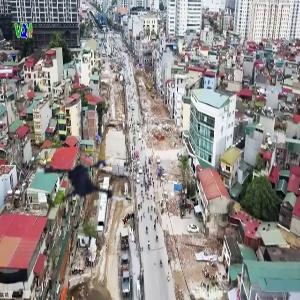drone: (37, 123, 140, 226)
